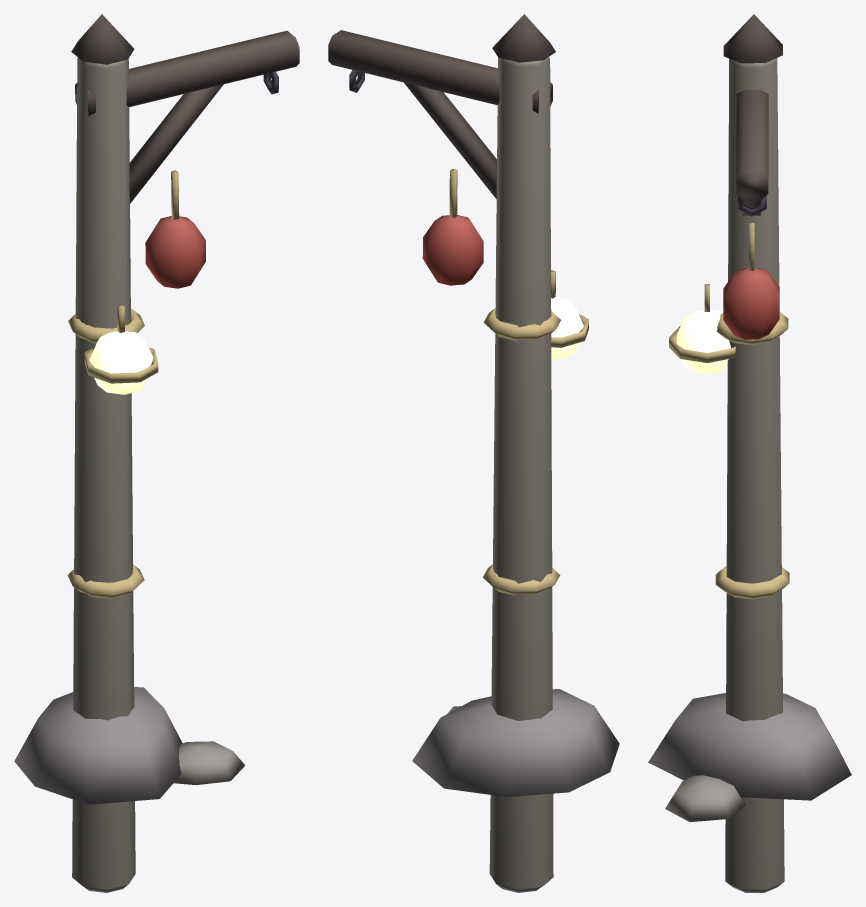
The model's file is zv-tidepool-lanternPost.glb.
The picture shows the model from 3 angles, left to right: view 1: azimuth 30°, elevation 25°; view 2: azimuth 150°, elevation 25°; view 3: azimuth 270°, elevation 25°; orthographic projection.
Parts seen in each view (by area): view 1: zv-tidepool-lanternPost, window_glow; view 2: zv-tidepool-lanternPost, window_glow; view 3: zv-tidepool-lanternPost, window_glow.
Boxes of the visible parts, x1,y1,x2,y2 form: zv-tidepool-lanternPost: [14, 14, 299, 892]; window_glow: [89, 331, 153, 394]; zv-tidepool-lanternPost: [328, 14, 619, 892]; window_glow: [551, 297, 583, 358]; zv-tidepool-lanternPost: [648, 14, 851, 892]; window_glow: [676, 310, 730, 373].
Bounding box in the file's own units: 0.7638 × 2.39 × 0.5087.
